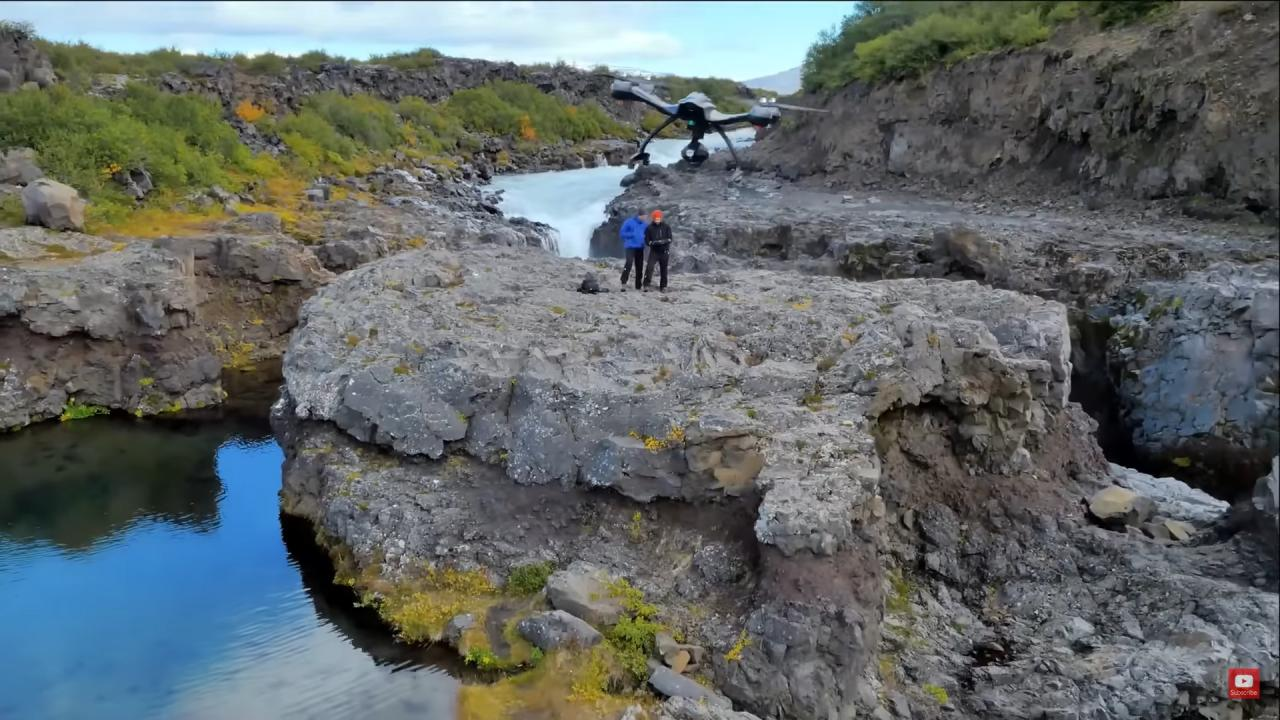Drone: (571, 55, 841, 180)
